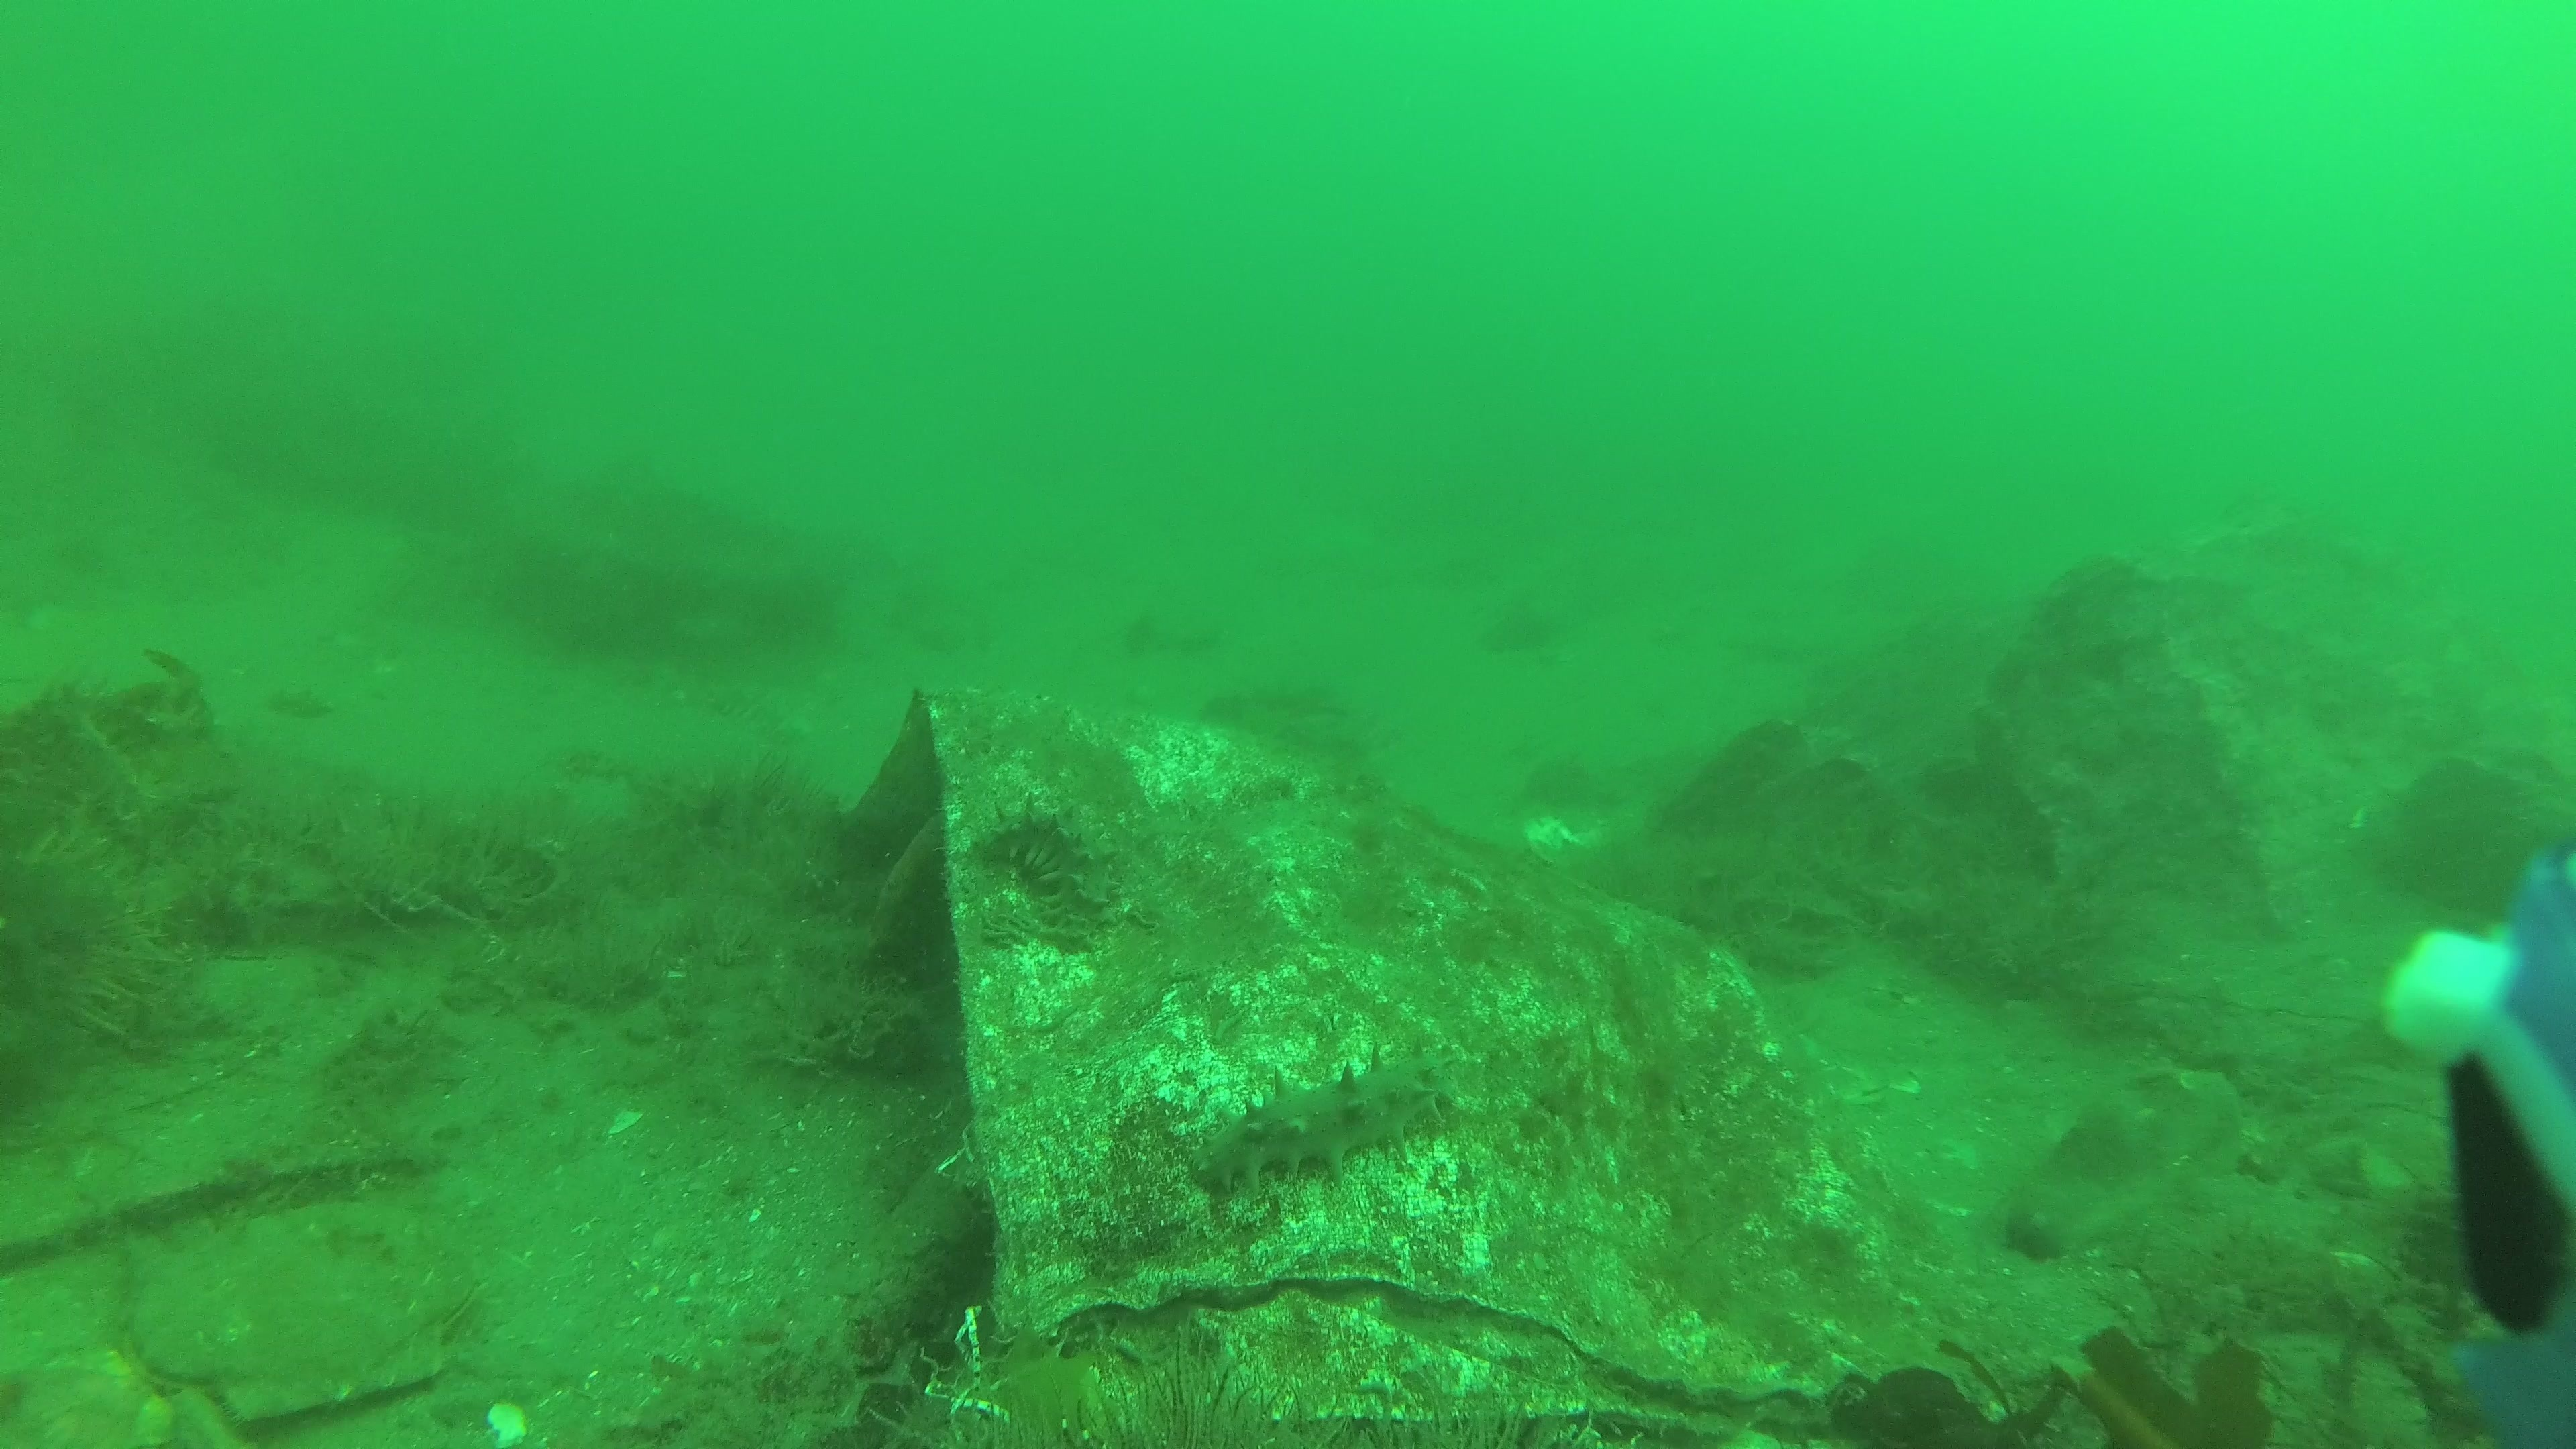echinus: (2, 816, 161, 1072)
holothurian: (1175, 1046, 1463, 1203), (968, 789, 1118, 931)
scallop: (103, 1201, 494, 1414)
